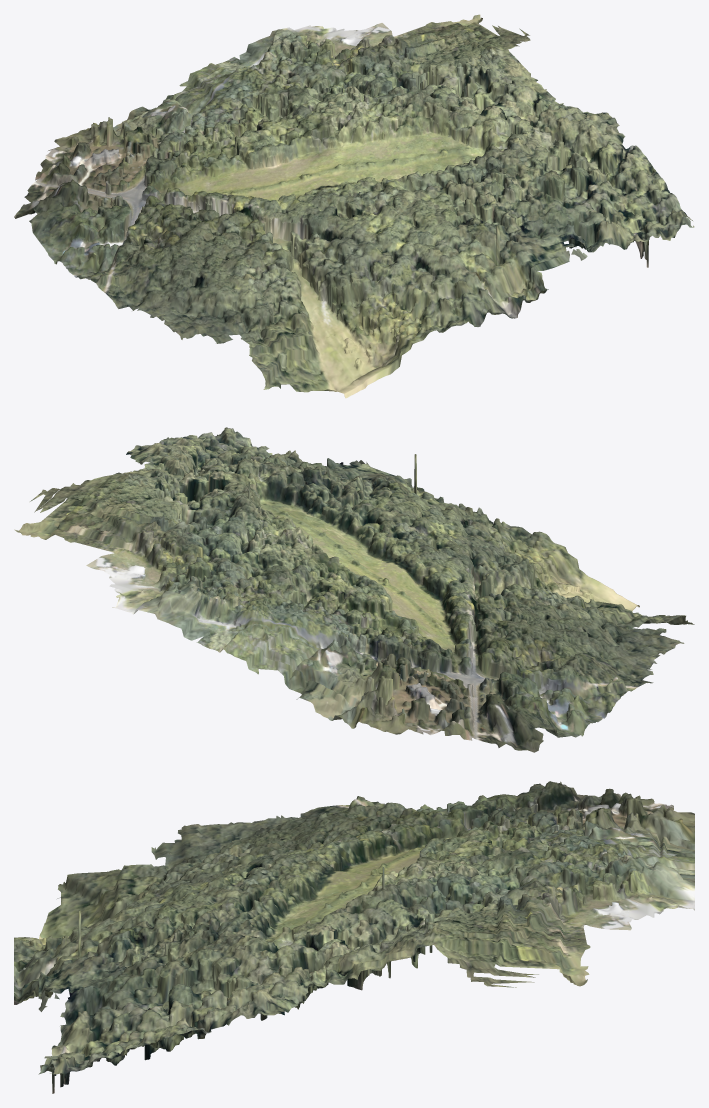
Rendered from bellus_village_3d.obj.
3 views of the same model, one above another, from view 1: azimuth 30°, elevation 25°; view 2: azimuth 150°, elevation 25°; view 3: azimuth 270°, elevation 25° (orthographic). The views are drawn at different scales.
Bounding box in the file's own units: 44.58 × 14.44 × 40.94.
Materials: 1 (1 with a texture image).
